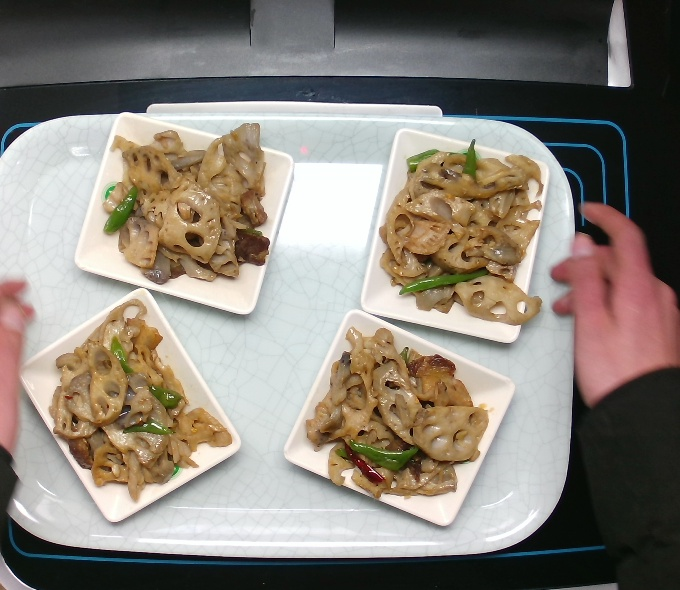wcq-OuPianChaoRou: (42, 306, 232, 494), (107, 123, 272, 287), (383, 155, 548, 319), (320, 330, 485, 494)
